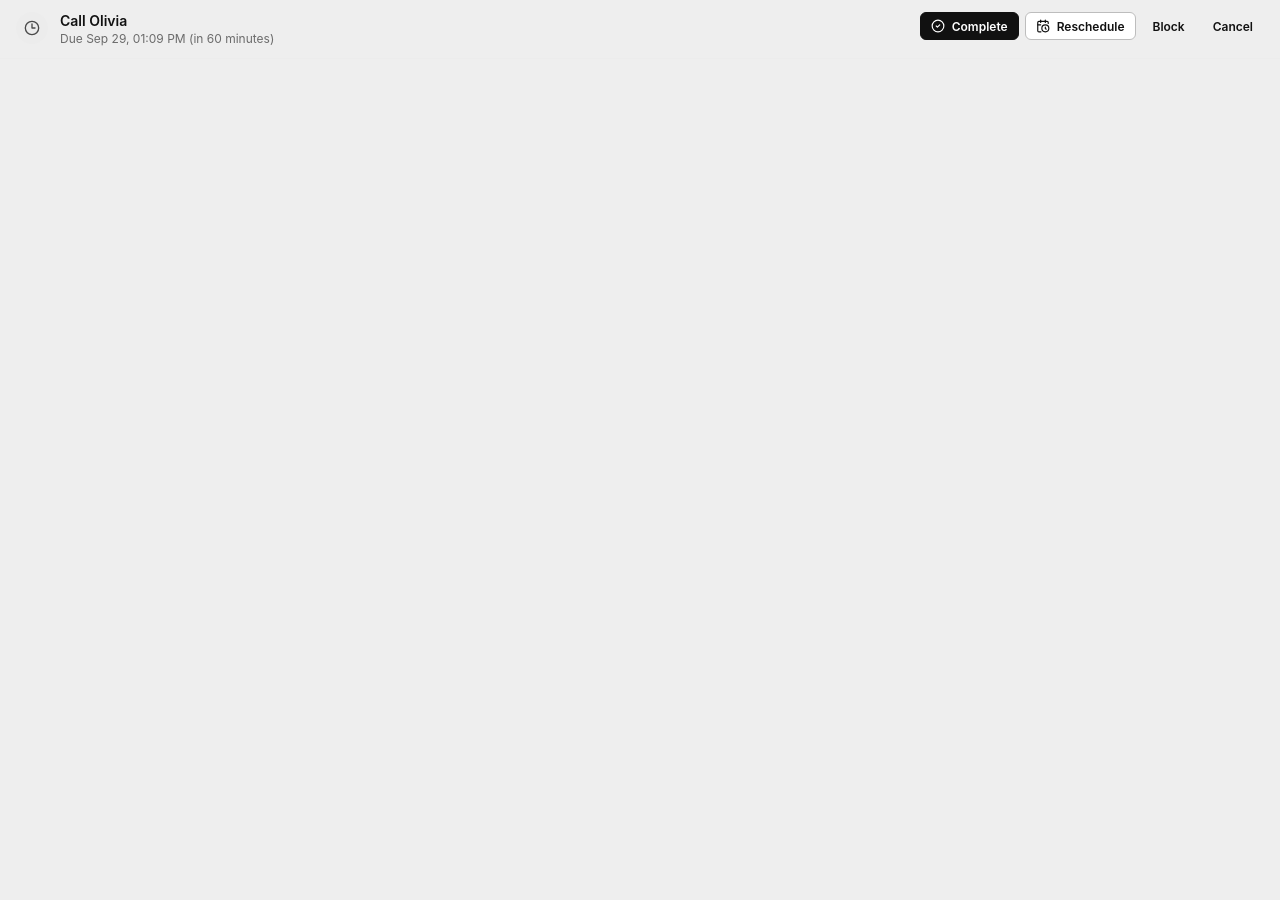
completing a task › shows the server rule when the follow-up chain is missing
Click the button "Complete" at (969, 26), box [920, 12, 1019, 40]
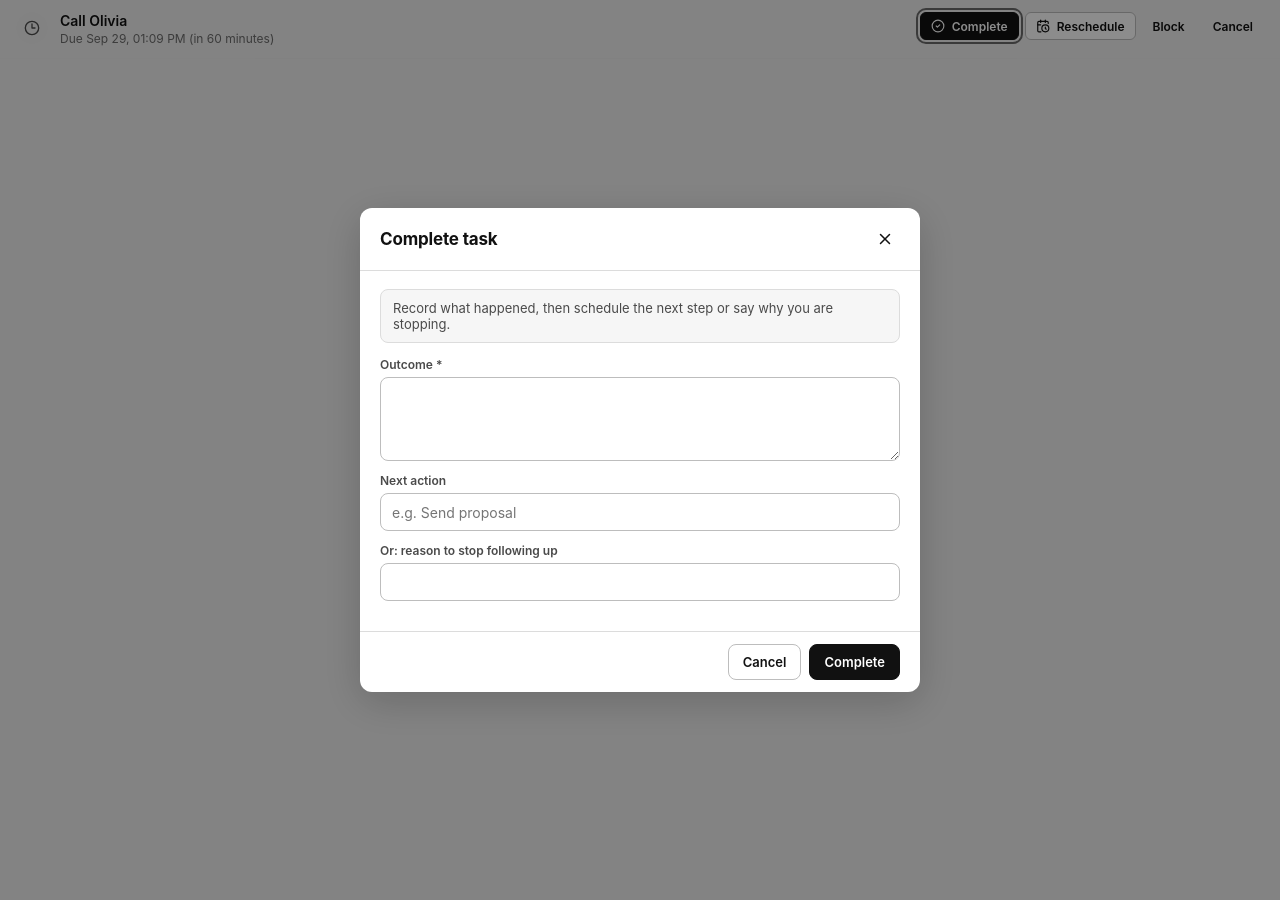
Type "x" into the text box labelled "Outcome *" at (640, 419), box [380, 377, 900, 461]
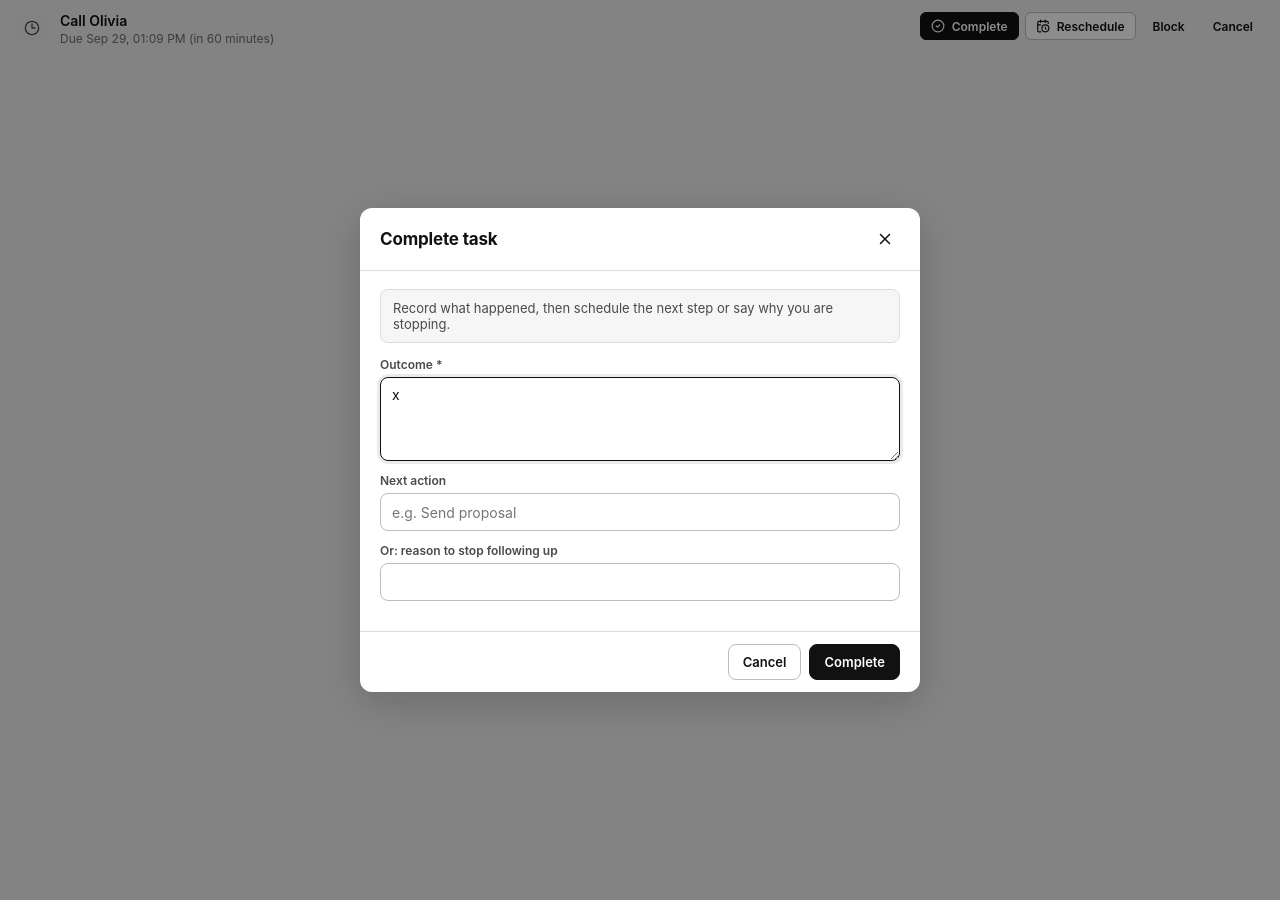
Click the button "Complete" at (855, 662), box [809, 644, 900, 680]
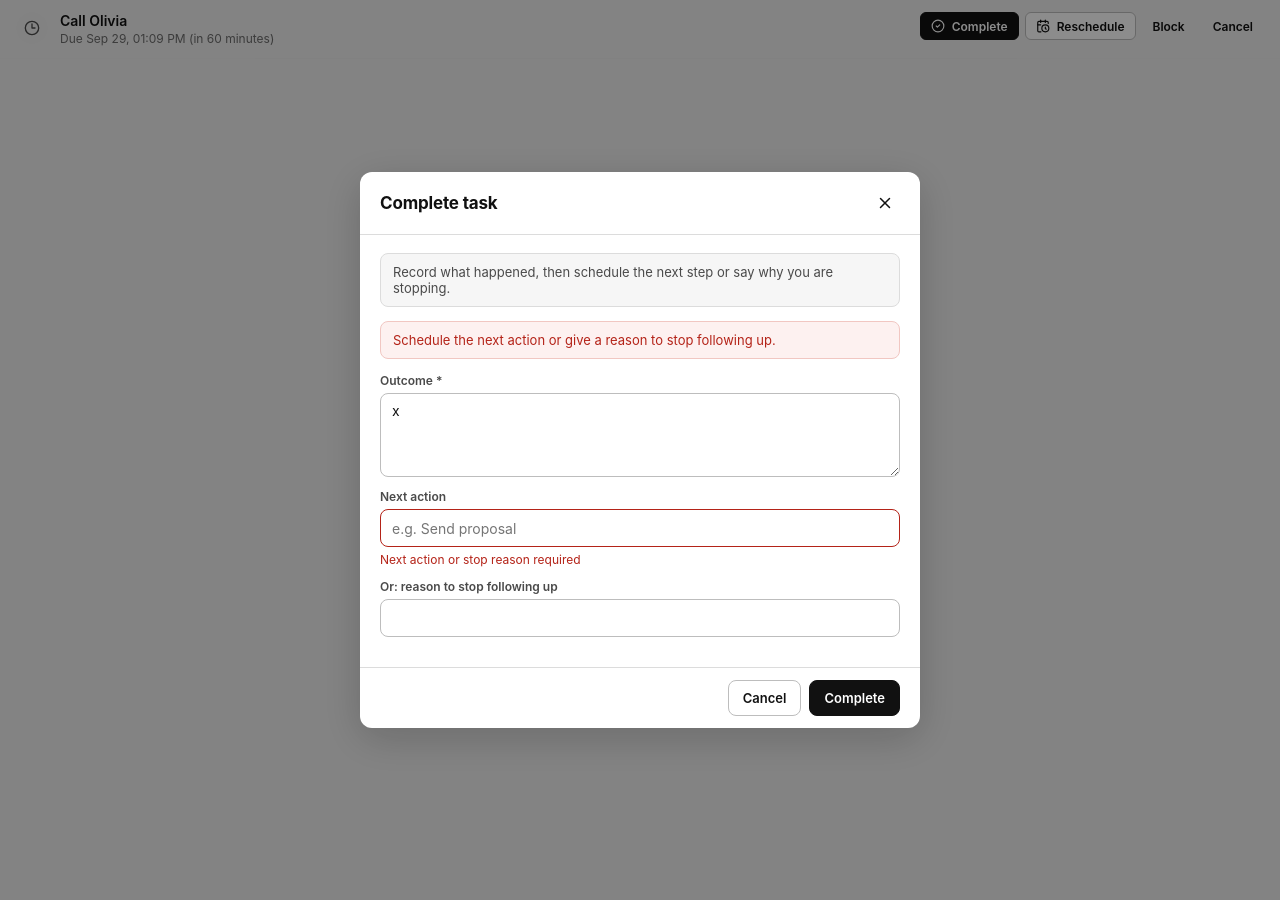
Result: the text "Next action or stop reason required" is shown at [380, 552, 581, 567]
